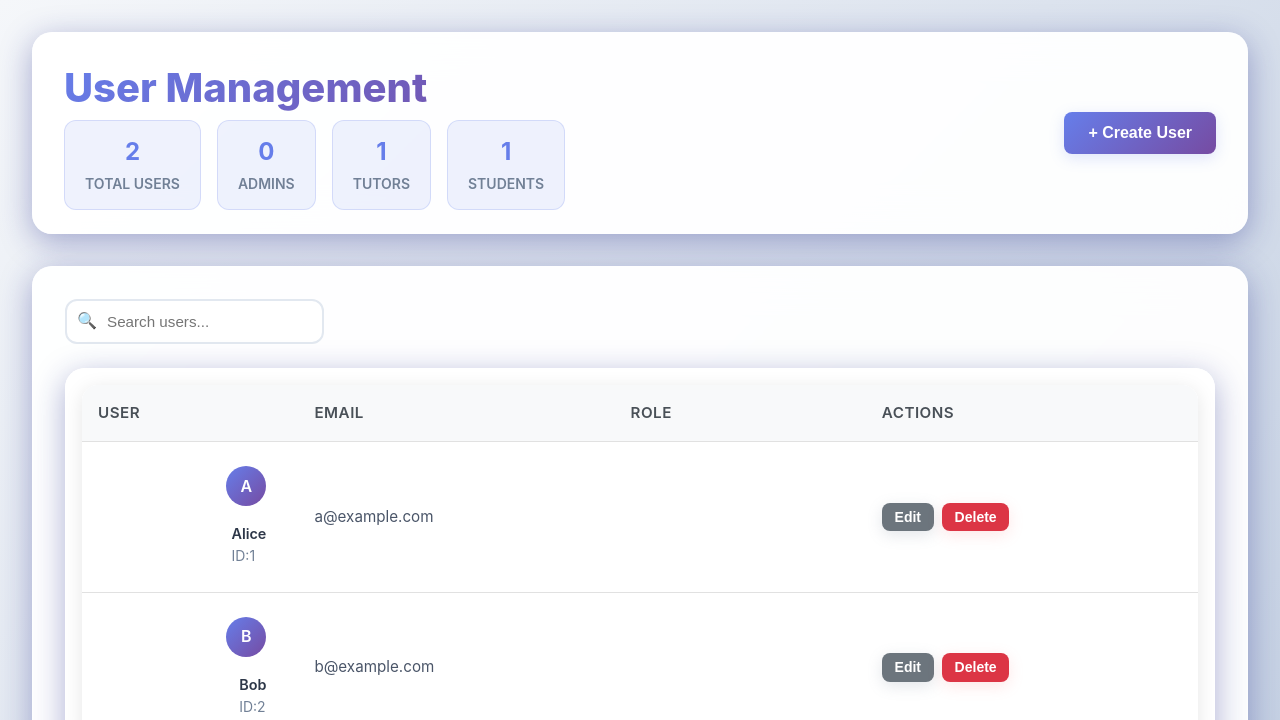
Test: UserList component › search filters users
Step 1. Type "Alice" into the field with placeholder "Search users..." → (194, 322), box [65,299,324,344]
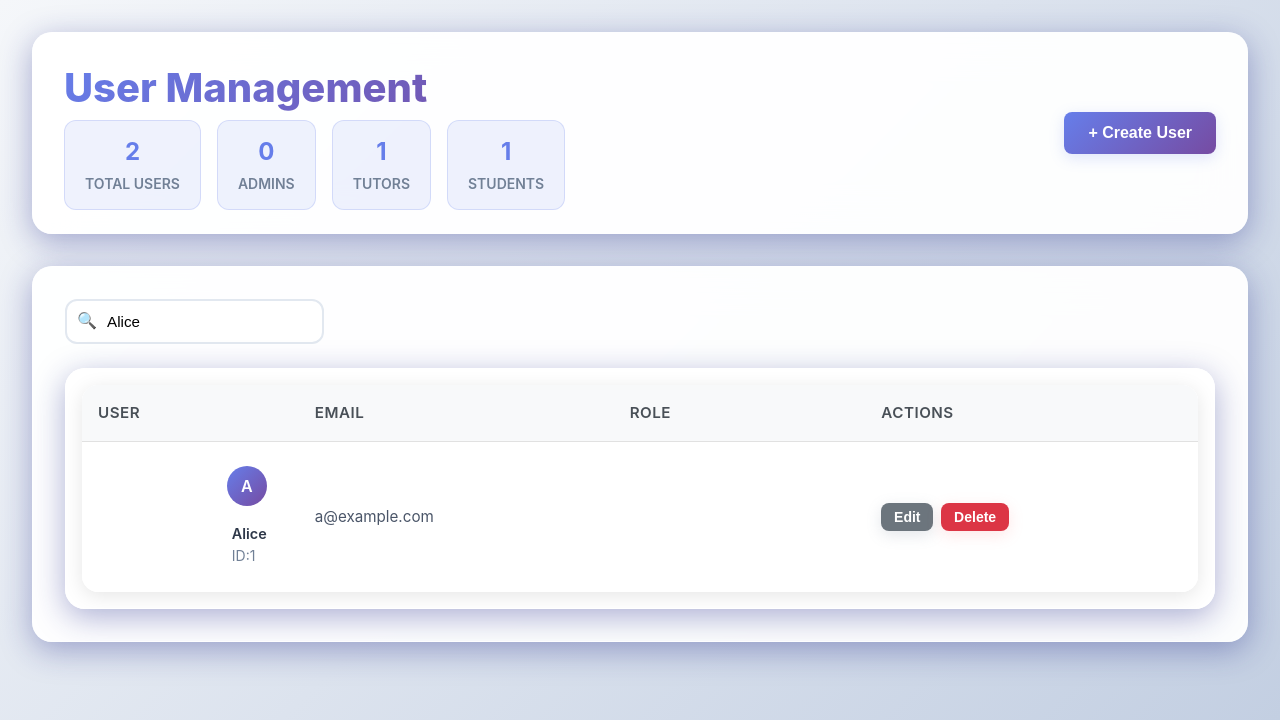
Result: the number of rows is 2 at [82,385,1198,442]; [82,442,1198,592]
